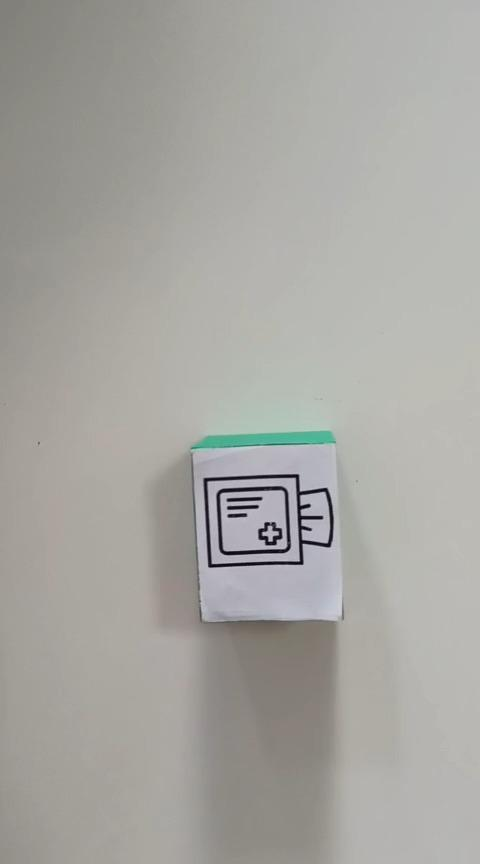Gauze: (188, 429, 344, 623)
